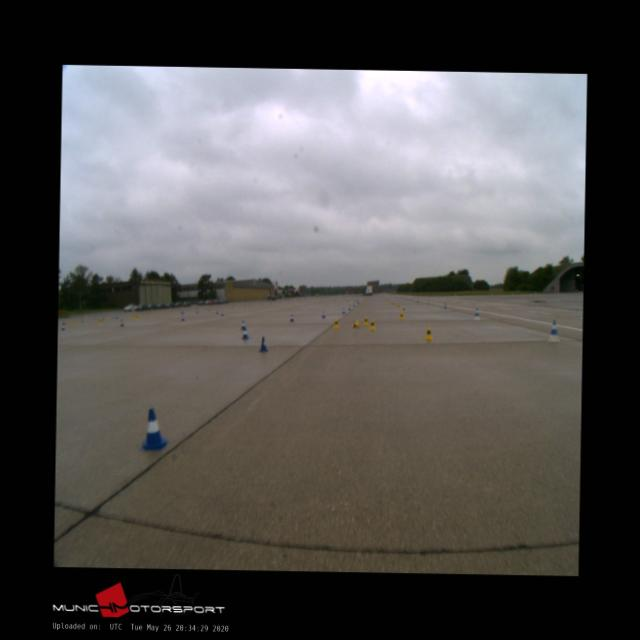blue_cone: (140, 408, 168, 451), (259, 336, 267, 350), (242, 326, 248, 338), (240, 320, 246, 329), (290, 313, 294, 321), (321, 310, 325, 318)
yellow_cone: (423, 326, 432, 340), (350, 320, 360, 328), (370, 318, 376, 328), (333, 318, 339, 328), (362, 316, 368, 324), (398, 311, 404, 319)
